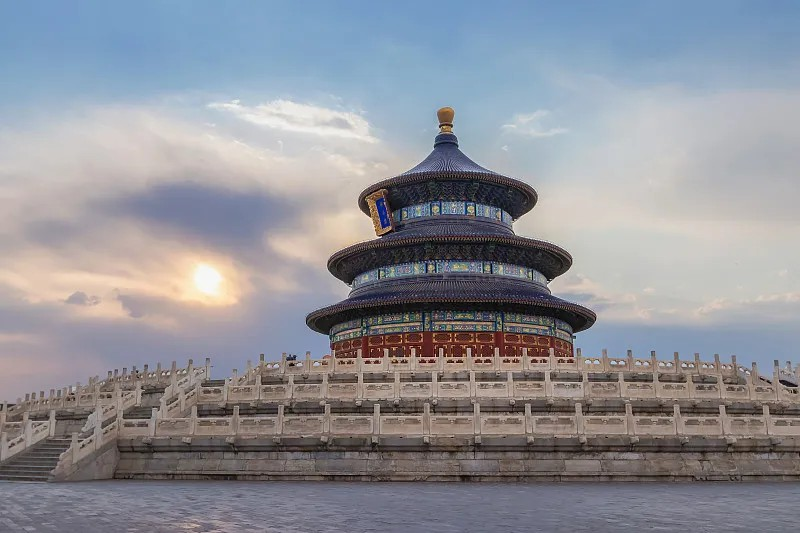Heaven: (306, 107, 597, 358)
